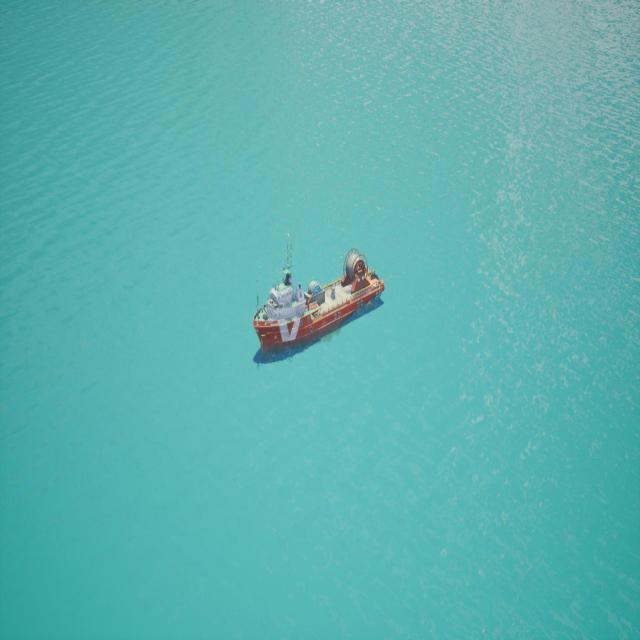tug boat: (253, 238, 387, 370)
